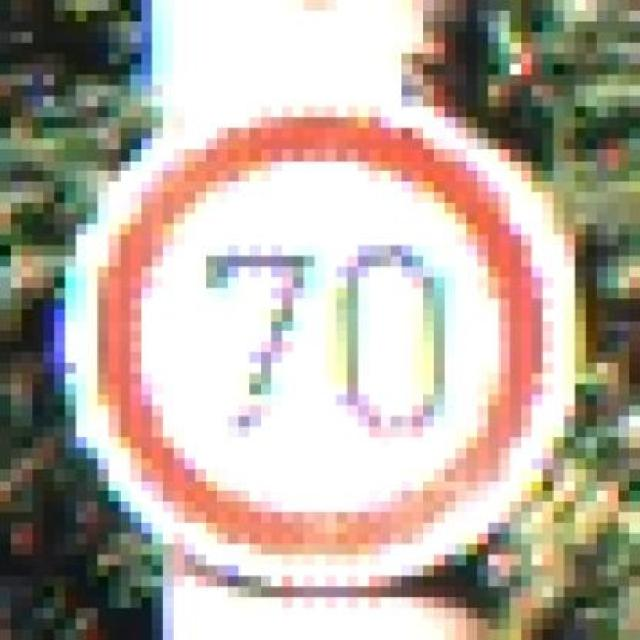forb_speed_over_70: (78, 99, 569, 582)
